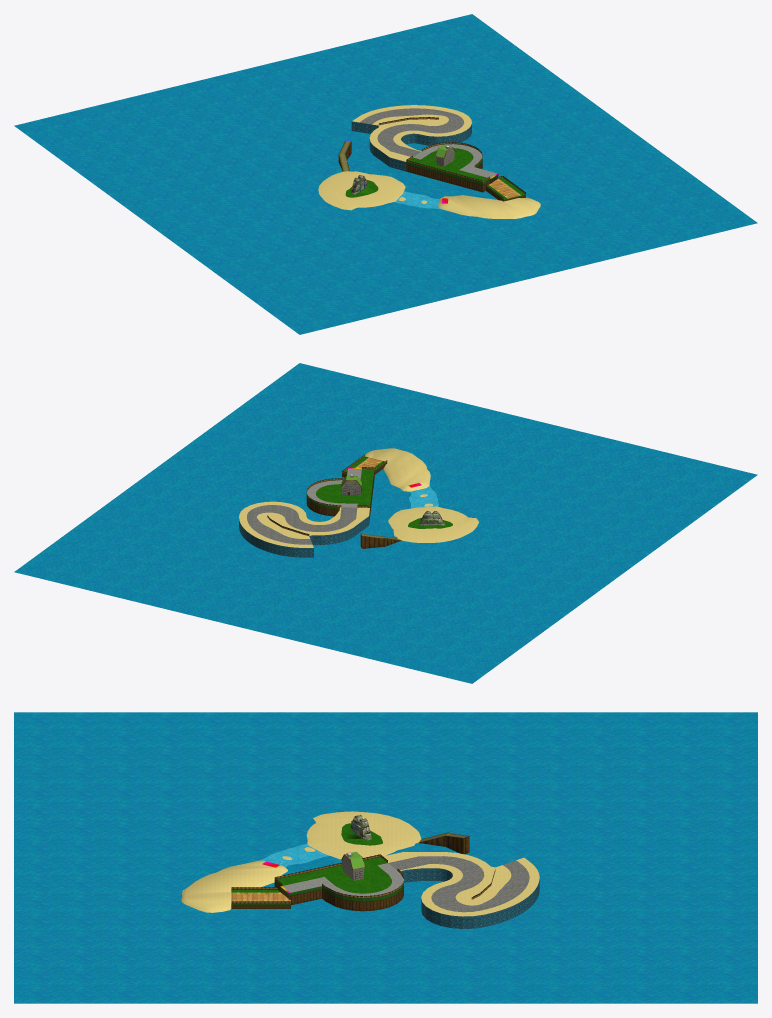
3 renders of one model, top to bottom at view 1: azimuth 30°, elevation 25°; view 2: azimuth 150°, elevation 25°; view 3: azimuth 270°, elevation 25°, orthographic. The views are drawn at different scales.
Parts seen in each view (by area): view 1: race_SKP__mat13.003, race_SKP__mat12.003, race_SKP__mat6.003, race_SKP__mat19.001, race_SKP__mat14.003, race_SKP__hillwall.001, race_SKP__fence.001, race_SKP__mat2.003; view 2: race_SKP__mat13.003, race_SKP__mat12.003, race_SKP__mat6.003, race_SKP__mat14.003, race_SKP__mat19.001, race_SKP__hillwall.001; view 3: race_SKP__mat13.003, race_SKP__mat12.003, race_SKP__mat6.003, race_SKP__mat14.003, race_SKP__hillwall.001, race_SKP__mat19.001, race_SKP__fence.001, race_SKP__mat2.003, race_SKP__mat11.003, race_SKP__mat9.001.
Boxes of the visible parts, <box> form: race_SKP__mat13.003: <box>14,14,757,334</box>; race_SKP__mat12.003: <box>318,105,540,218</box>; race_SKP__mat6.003: <box>360,108,463,157</box>; race_SKP__mat19.001: <box>351,121,471,191</box>; race_SKP__mat14.003: <box>345,148,525,199</box>; race_SKP__hillwall.001: <box>338,141,525,201</box>; race_SKP__fence.001: <box>378,117,525,199</box>; race_SKP__mat2.003: <box>413,144,496,177</box>; race_SKP__mat13.003: <box>14,363,757,683</box>; race_SKP__mat12.003: <box>239,448,478,547</box>; race_SKP__mat6.003: <box>246,505,357,544</box>; race_SKP__mat14.003: <box>316,456,452,528</box>; race_SKP__mat19.001: <box>239,510,369,557</box>; race_SKP__hillwall.001: <box>306,462,400,548</box>; race_SKP__mat13.003: <box>14,712,757,1003</box>; race_SKP__mat12.003: <box>181,811,539,916</box>; race_SKP__mat6.003: <box>388,856,529,912</box>; race_SKP__mat14.003: <box>231,823,391,901</box>; race_SKP__hillwall.001: <box>231,836,469,911</box>; race_SKP__mat19.001: <box>353,823,539,928</box>; race_SKP__fence.001: <box>231,854,495,903</box>; race_SKP__mat2.003: <box>282,863,403,895</box>; race_SKP__mat11.003: <box>260,844,329,866</box>; race_SKP__mat9.001: <box>231,892,290,901</box>.
Size of the model in its own units: 136288 by 9398 by 147193.
23 materials, 21 textured.
